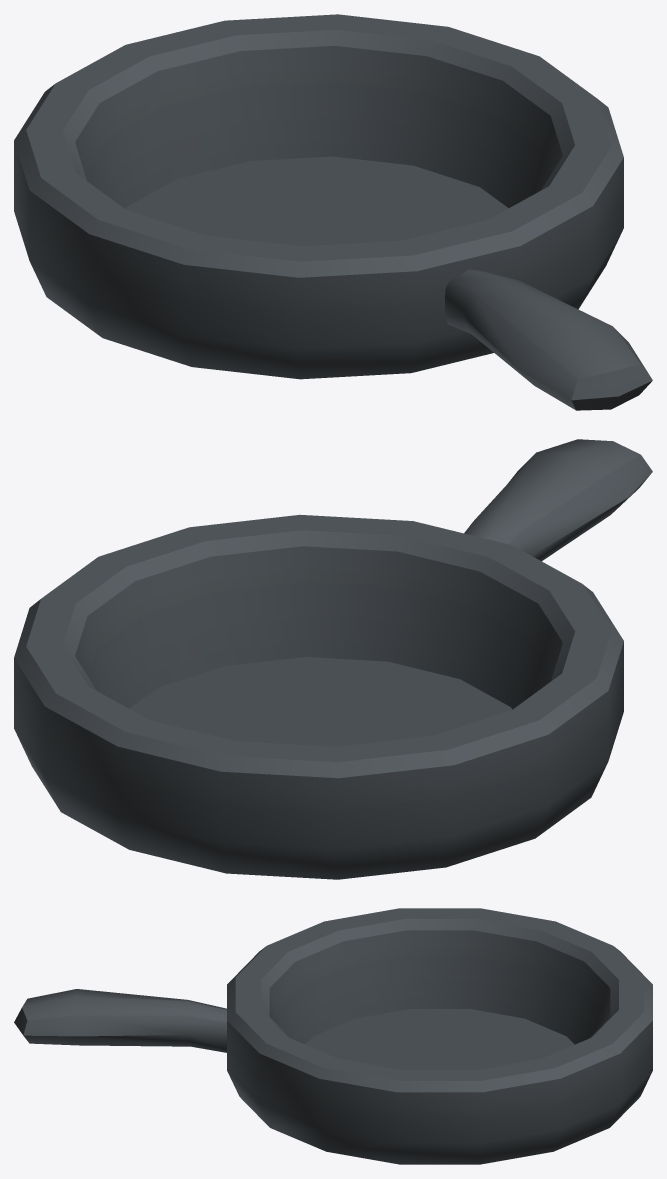
File: kaykit-restaurant-bits-pan-b.glb
The picture shows the model from 3 angles, top to bottom: view 1: azimuth 30°, elevation 25°; view 2: azimuth 150°, elevation 25°; view 3: azimuth 270°, elevation 25°; orthographic projection. The views are drawn at different scales.
Parts seen in each view (by area): view 1: pan_B; view 2: pan_B; view 3: pan_B.
Boxes of the visible parts, box(x1,y1,x2,y2) form: pan_B: box(14, 14, 652, 410); pan_B: box(14, 439, 652, 879); pan_B: box(14, 908, 652, 1164).
Bounding box in the file's own units: 1 × 0.2499 × 1.5.
1 material, 1 textured.
